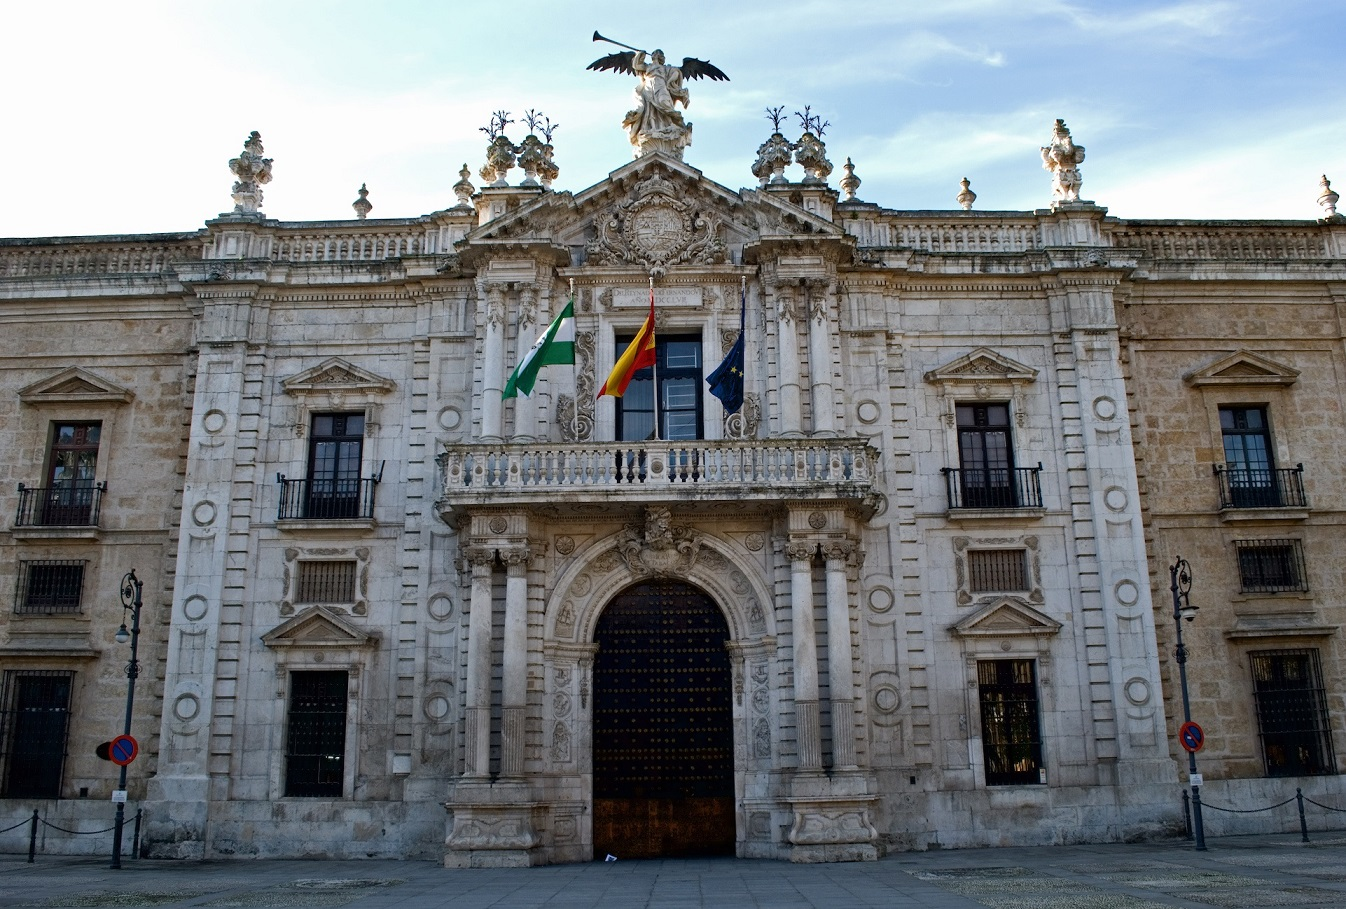arco-medio-punto: (583, 571, 745, 668)
fronton: (951, 595, 1063, 641), (259, 604, 372, 648), (18, 365, 135, 408), (925, 342, 1040, 383), (1187, 348, 1301, 388), (281, 356, 394, 396)
fronton-partido: (465, 146, 851, 256)
vano-adintelado: (593, 311, 723, 482), (266, 661, 368, 805), (959, 649, 1058, 788), (1202, 387, 1302, 506), (937, 392, 1037, 509), (289, 402, 381, 520), (27, 406, 117, 525)
